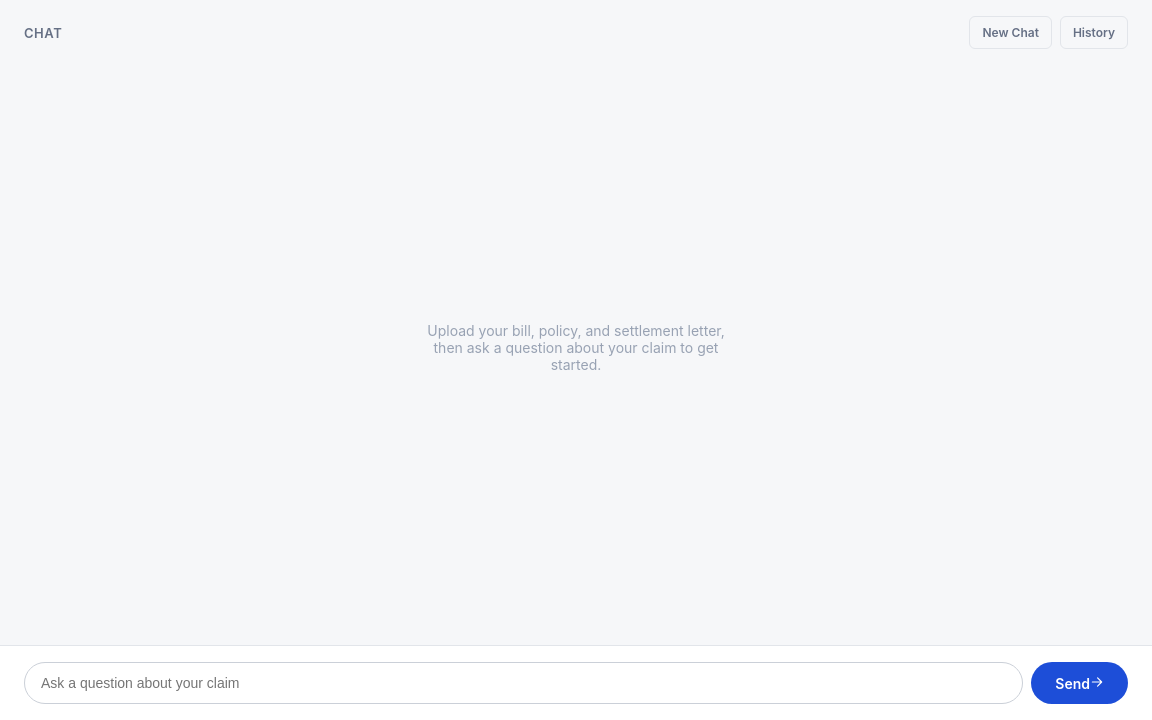
Test case: ChatPanel › renders an error and replaces the empty assistant bubble when the stream reports a failure
Type "Why?" into the field with placeholder "Ask a question about your claim". click: (524, 683)
box: [24,662,1023,704]
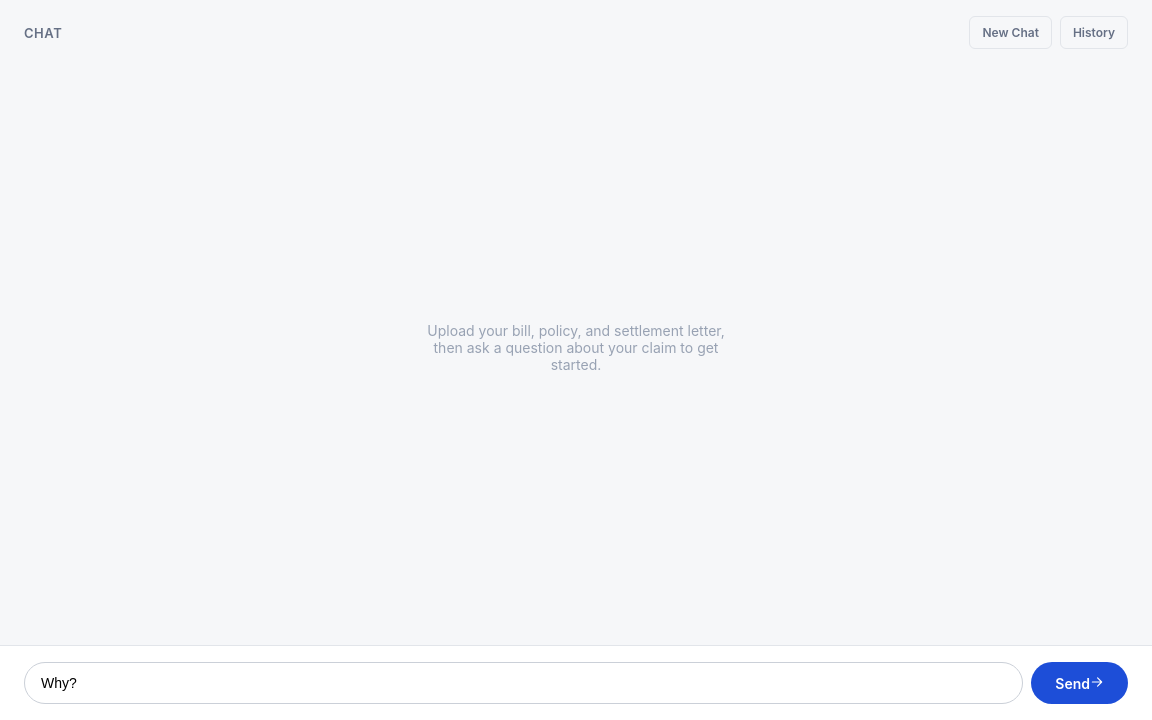
Click the button "Send". click: (1080, 683)
box: [1031,662,1128,704]
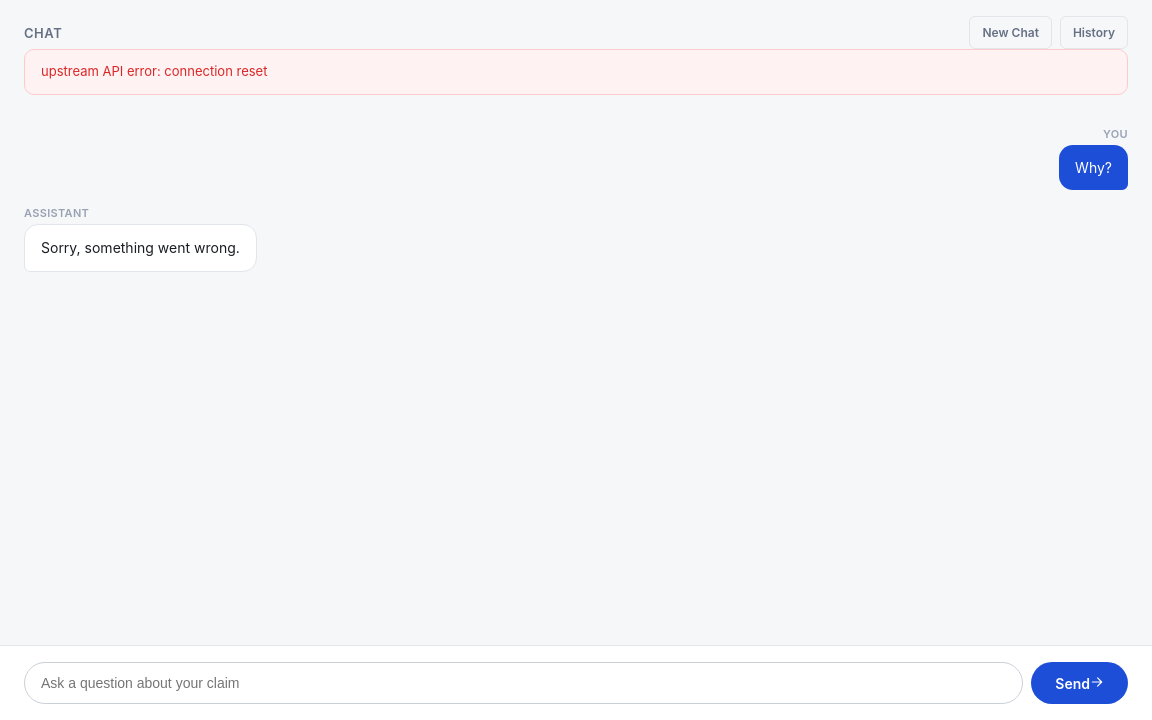
Now the message reads "upstream API error: connection reset", box [41,63,267,79]
Now the text "Sorry, something went wrong." is shown, box [41,237,240,259]
Now the text "Why?" is shown, box [1075,156,1112,178]
